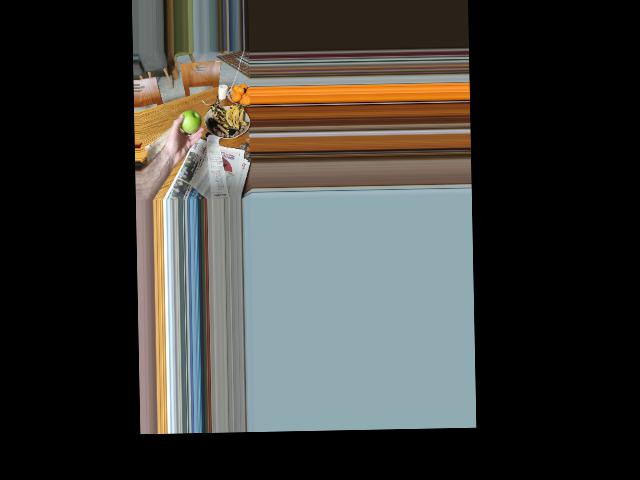apple: (175, 108, 202, 137)
